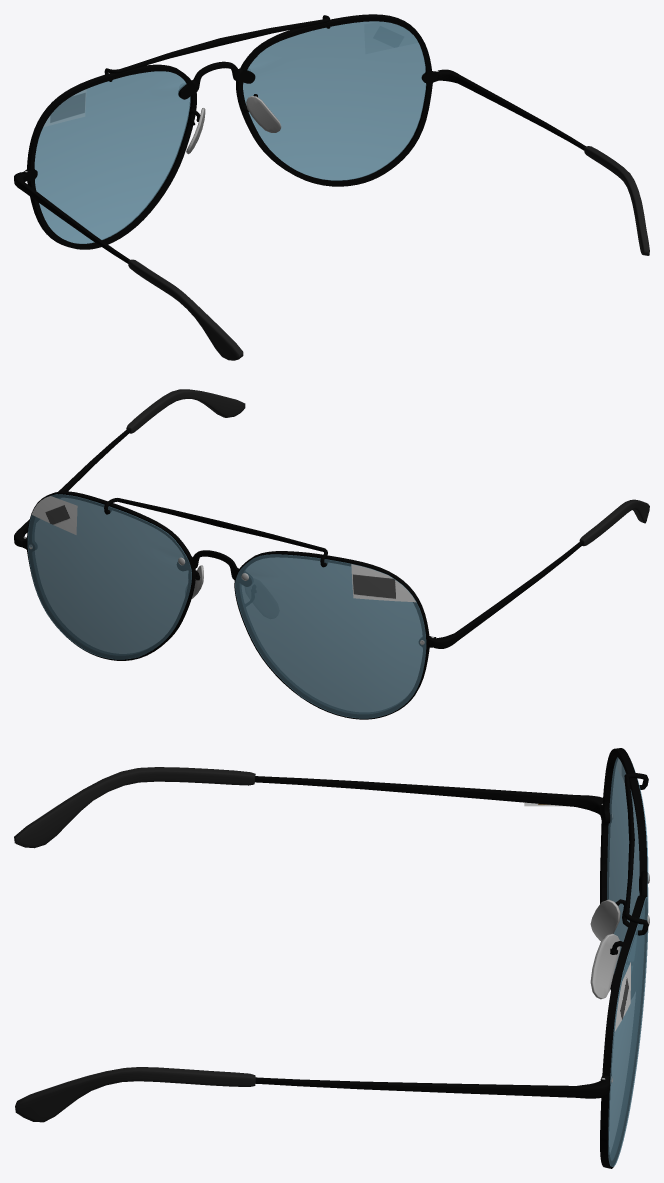
The model's file is Bimini.fbx.
3 renders of one model, top to bottom at view 1: azimuth 30°, elevation 25°; view 2: azimuth 150°, elevation 25°; view 3: azimuth 270°, elevation 25°, orthographic. The views are drawn at different scales.
Visible parts, largest first — view 1: polySurface14, Frame, Temple_tips, Temple, Nose_pad, bimni_logo; view 2: polySurface14, Frame, Temple_tips, Temple, bimni_logo, Logo; view 3: Temple_tips, polySurface14, Frame, Temple, Nose_pad, Logo.
Boxes of the visible parts, x1,y1,x2,y2 form: polySurface14: (34, 21, 426, 243); Frame: (22, 14, 439, 249); Temple_tips: (128, 146, 649, 360); Temple: (14, 69, 585, 263); Nose_pad: (186, 96, 281, 154); bimni_logo: (44, 89, 86, 126); polySurface14: (27, 494, 426, 718); Frame: (22, 491, 436, 719); Temple_tips: (126, 389, 649, 546); Temple: (14, 428, 583, 648); bimni_logo: (351, 564, 415, 602); Logo: (31, 496, 77, 534); Temple_tips: (14, 767, 255, 1122); polySurface14: (607, 757, 648, 1166); Frame: (600, 748, 648, 1168); Temple: (254, 776, 610, 1098); Nose_pad: (590, 899, 620, 999); Logo: (524, 802, 630, 1031).
Size of the model in its own units: 15.19 by 5.39 by 13.17.
6 materials, 1 textured.
